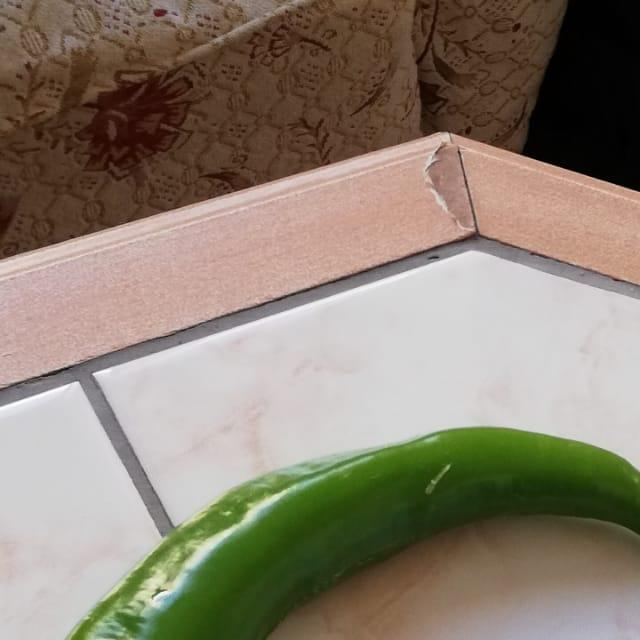chili_pepper: (0, 406, 640, 640)
